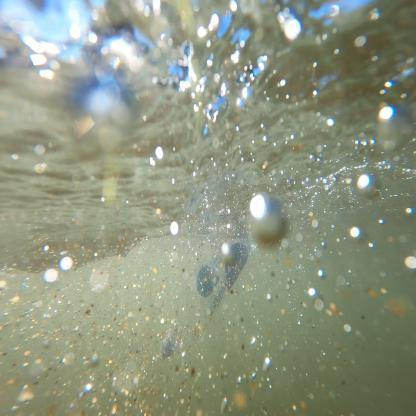Rác: (155, 203, 277, 356)
